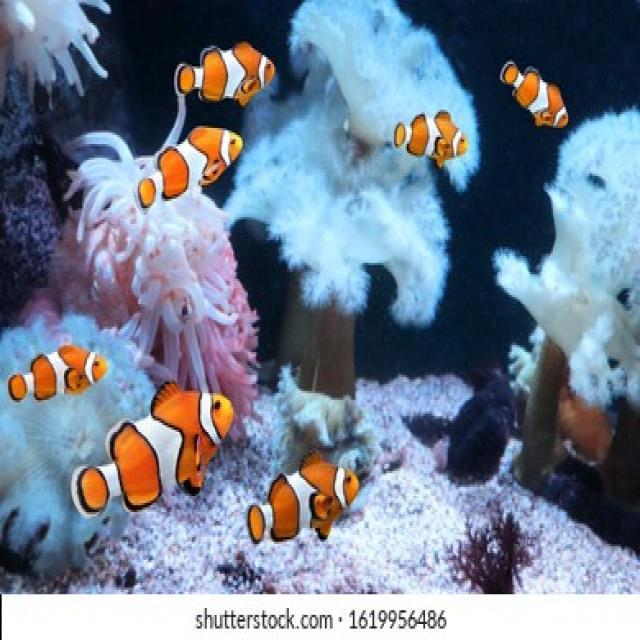ClownFish: (68, 384, 235, 523), (245, 453, 358, 547), (133, 123, 244, 207), (176, 39, 277, 110), (6, 337, 107, 407), (500, 60, 569, 131), (394, 109, 474, 164)
